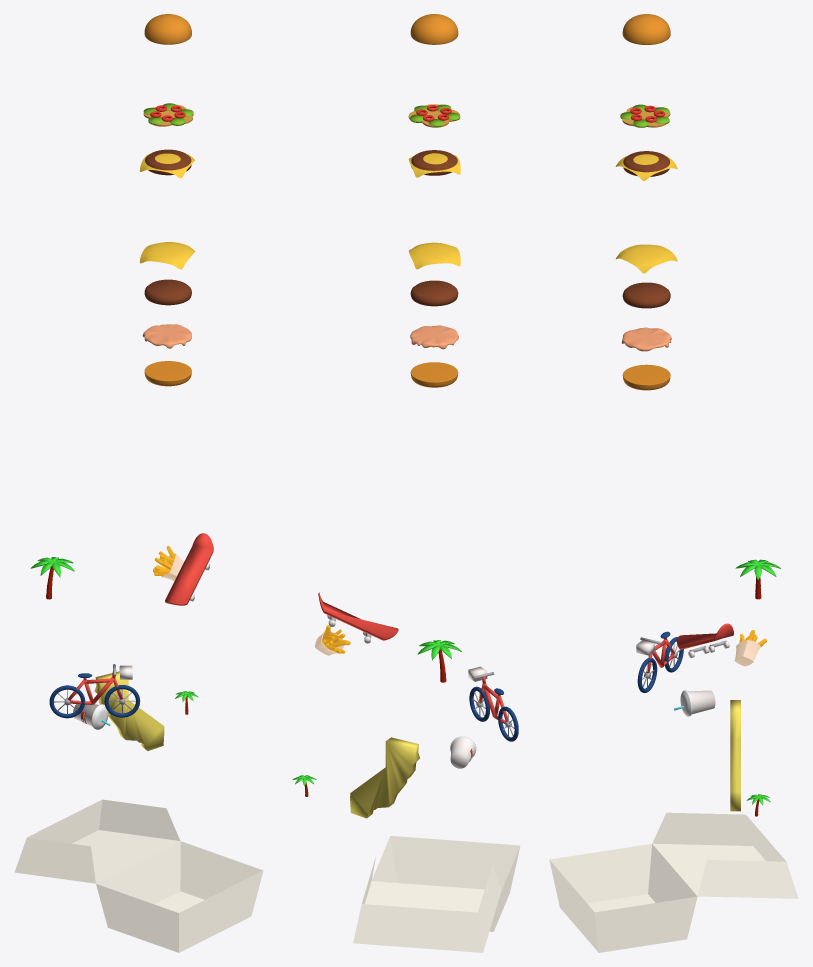
File: scroll_model.glb
3 renders of one model, left to right at view 1: azimuth 30°, elevation 25°; view 2: azimuth 150°, elevation 25°; view 3: azimuth 270°, elevation 25°, orthographic.
Parts seen in each view (by area): view 1: Box_Bottom_Part, Box_Upper_Part, MB_California_State, MB_Skateboard_Deck, Burger_Bun_Top, Burger_Cheese, Burger_Patty, Burger_Bun_Bottom, Burger_Mayonnaise_Bottom, MB_Bike_Tyres, MB_Burger_Patty_2, MB_Bike_Frame (+1 smaller); view 2: Box_Upper_Part, Box_Bottom_Part, MB_California_State, Burger_Bun_Top, Burger_Cheese, Burger_Patty, Burger_Bun_Bottom, MB_Skateboard_Deck, Burger_Mayonnaise_Bottom, MB_Bike_Tyres, MB_Burger_Patty_2, MB_Soda_Cup (+1 smaller); view 3: Box_Bottom_Part, Box_Upper_Part, MB_California_State, Burger_Bun_Top, Burger_Cheese, Burger_Patty, Burger_Bun_Bottom, Burger_Mayonnaise_Bottom, MB_Burger_Patty_2, MB_Skateboard_Deck, MB_Bike_Tyres, MB_Burger_Cheese_2.
Part boxes in pixels (x1,y1,x2,y2): Box_Bottom_Part: (96, 841, 263, 952); Box_Upper_Part: (14, 799, 180, 883); MB_California_State: (94, 671, 164, 750); MB_Skateboard_Deck: (165, 533, 213, 605); Burger_Bun_Top: (144, 14, 191, 44); Burger_Cheese: (139, 242, 195, 269); Burger_Patty: (144, 279, 191, 305); Burger_Bun_Bottom: (144, 361, 191, 386); Burger_Mayonnaise_Bottom: (142, 324, 191, 348); MB_Bike_Tyres: (49, 685, 140, 718); MB_Burger_Patty_2: (145, 149, 191, 175); MB_Bike_Frame: (67, 670, 122, 704); Box_Upper_Part: (353, 857, 501, 952); Box_Bottom_Part: (371, 836, 520, 931); MB_California_State: (350, 737, 419, 818); Burger_Bun_Top: (410, 14, 458, 44); Burger_Cheese: (408, 242, 460, 269); Burger_Patty: (410, 280, 458, 306); Burger_Bun_Bottom: (410, 362, 458, 387); MB_Skateboard_Deck: (318, 592, 398, 640); Burger_Mayonnaise_Bottom: (410, 325, 458, 349); MB_Bike_Tyres: (469, 686, 518, 741); MB_Burger_Patty_2: (411, 150, 457, 175); MB_Soda_Cup: (450, 738, 474, 768); Box_Bottom_Part: (549, 843, 697, 952); Box_Upper_Part: (652, 812, 798, 898); MB_California_State: (730, 700, 740, 811); Burger_Bun_Top: (622, 14, 670, 44); Burger_Cheese: (616, 244, 677, 273); Burger_Patty: (622, 282, 670, 308); Burger_Bun_Bottom: (622, 364, 670, 390); Burger_Mayonnaise_Bottom: (621, 327, 671, 351); MB_Burger_Patty_2: (623, 151, 669, 176); MB_Skateboard_Deck: (676, 623, 733, 649); MB_Bike_Tyres: (637, 637, 683, 692); MB_Burger_Cheese_2: (615, 154, 677, 180).
Bounding box in the file's own units: 47.92 × 222 × 55.3.
